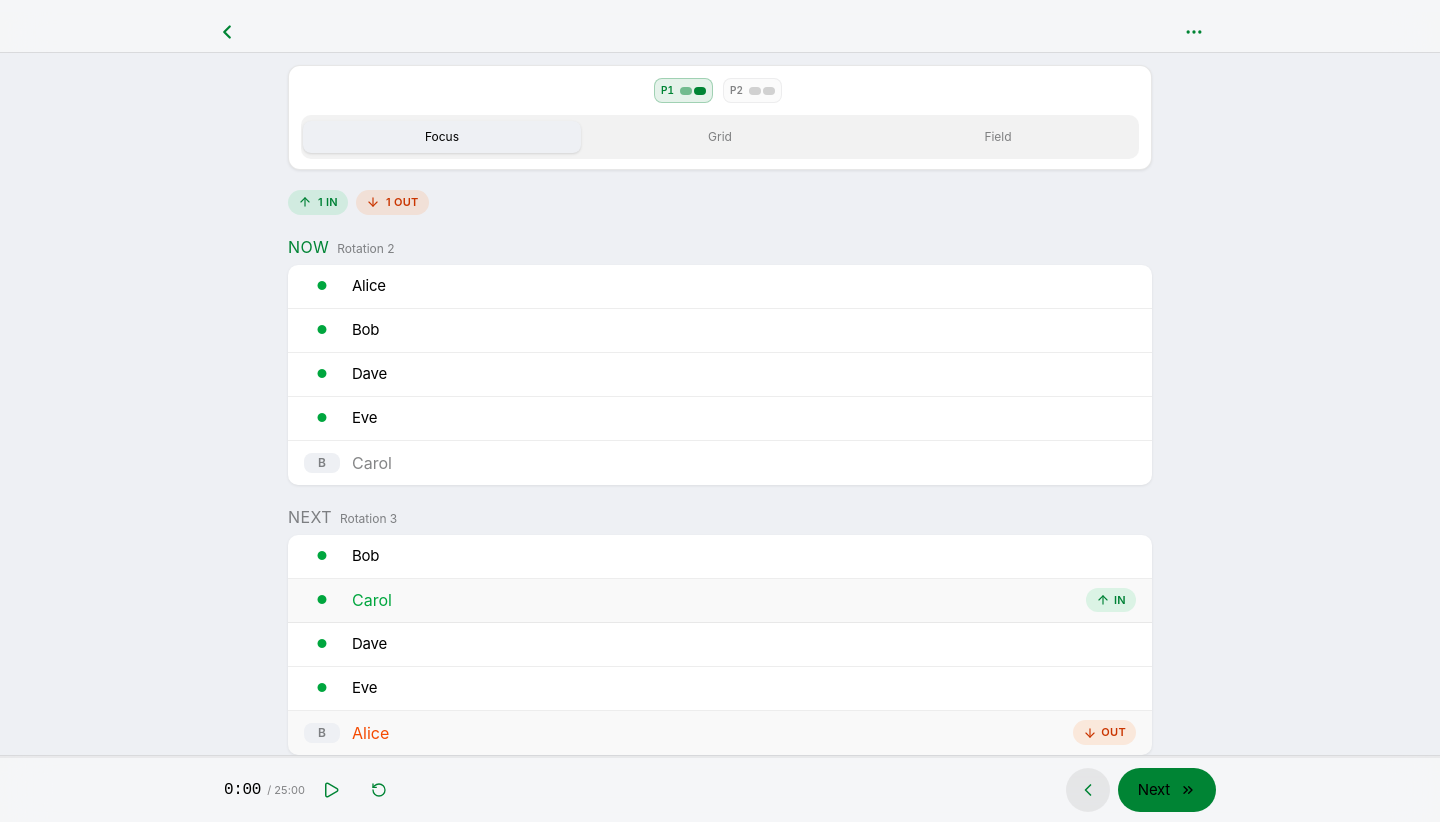
Test case: RotationGrid › live swap interaction › disables period actions for periods that already started
Click the tab "Grid".
click(720, 137)  # box [581, 121, 859, 153]
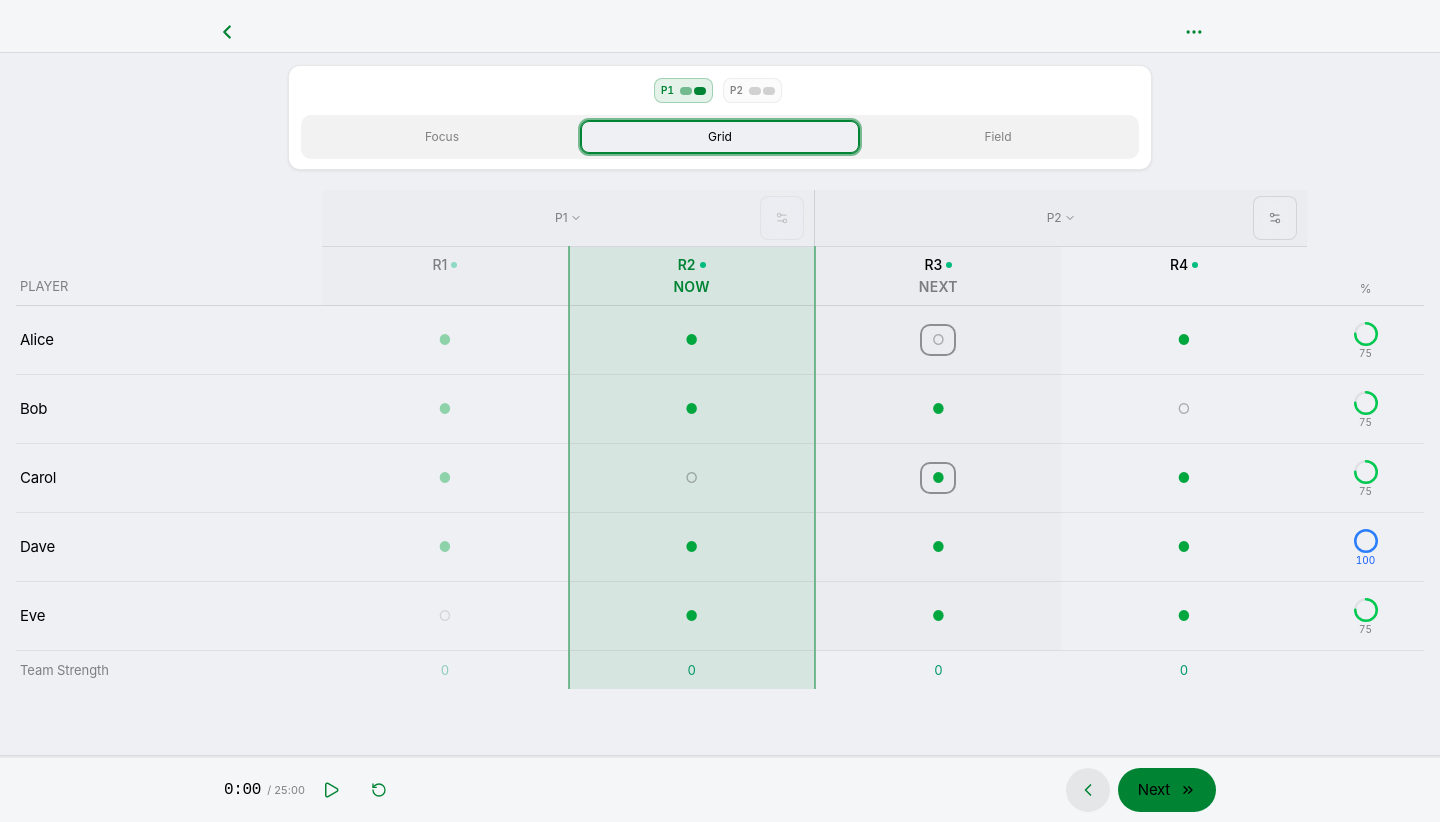
Result: the button named "period 1 actions" is disabled at [760, 196, 804, 240]
Result: the button named "period 2 actions" is enabled at [1253, 196, 1297, 240]
